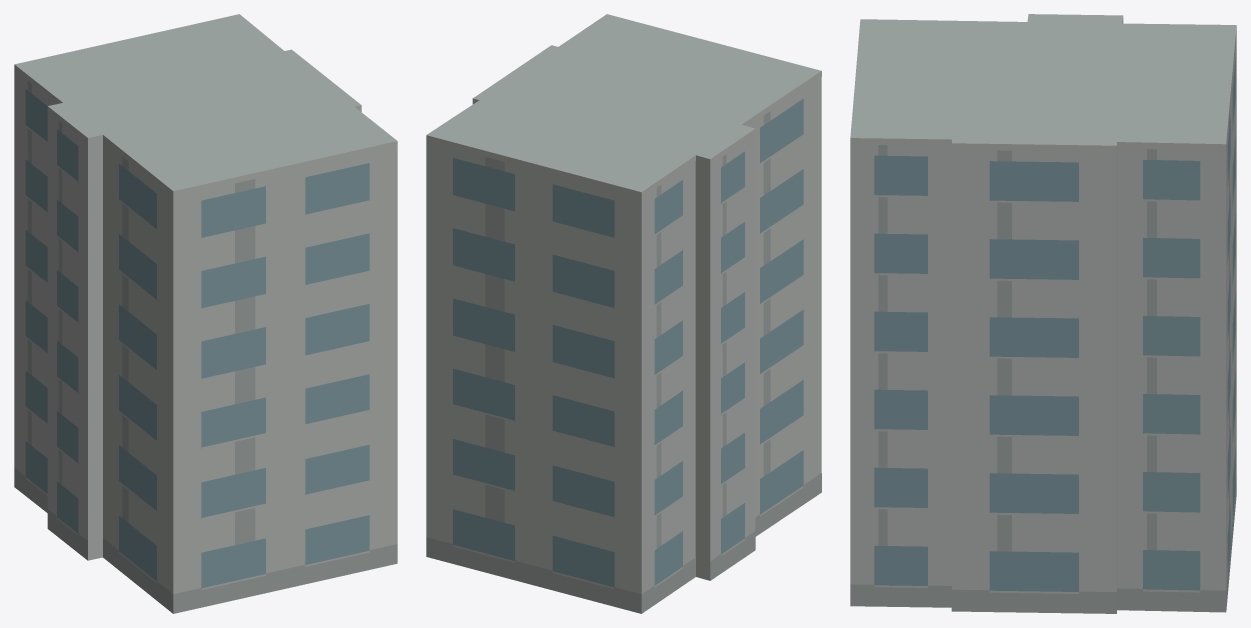
Rendered from survey-upis-32934296.glb.
3 renders of one model, left to right at view 1: azimuth 30°, elevation 25°; view 2: azimuth 150°, elevation 25°; view 3: azimuth 270°, elevation 25°, orthographic. The views are drawn at different scales.
Parts seen in each view (by area): view 1: survey-upis-32934296.tmp; view 2: survey-upis-32934296.tmp; view 3: survey-upis-32934296.tmp.
Part boxes in pixels (x1=…): survey-upis-32934296.tmp: x1=14, y1=14, x2=397, y2=613; survey-upis-32934296.tmp: x1=426, y1=14, x2=821, y2=613; survey-upis-32934296.tmp: x1=850, y1=14, x2=1236, y2=613.
Size of the model in its own units: 10.54 by 17.45 by 13.06.
